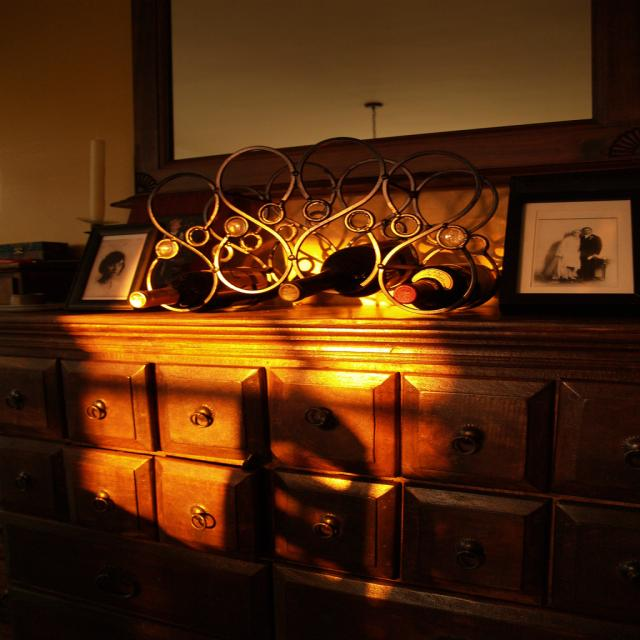no_fire: (100, 181, 496, 589)
